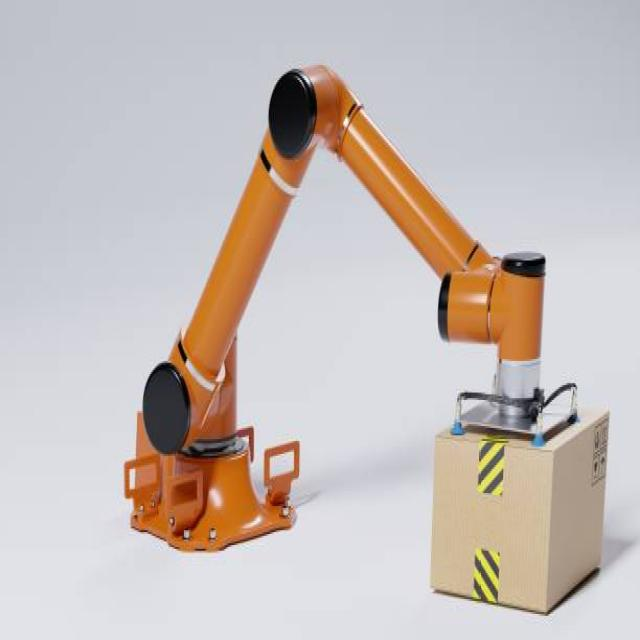Robotic-arm: (121, 50, 549, 564)
